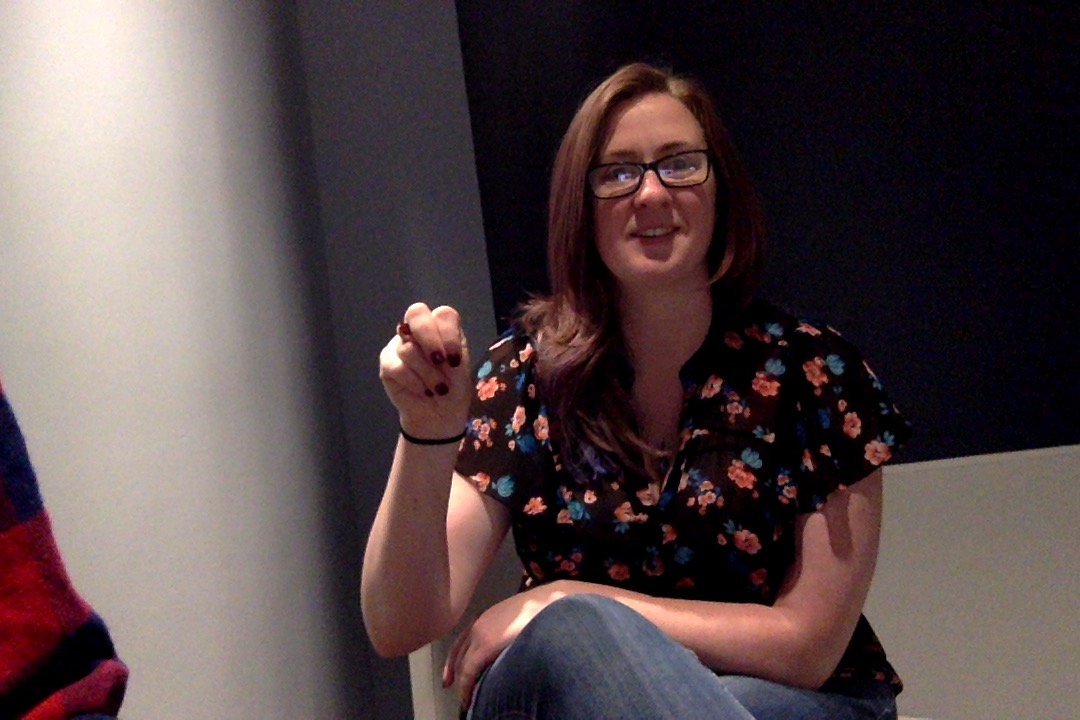n: (367, 284, 481, 499)
